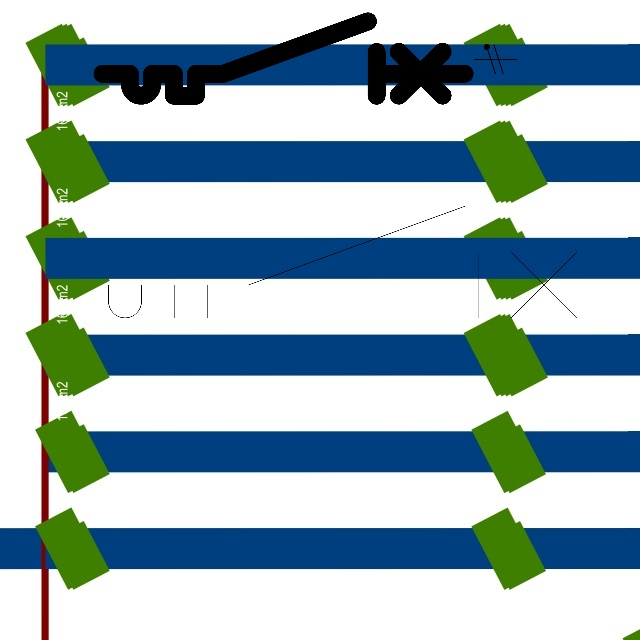interruptor_termomagnetico: (53, 192, 623, 332), (93, 12, 474, 105)
